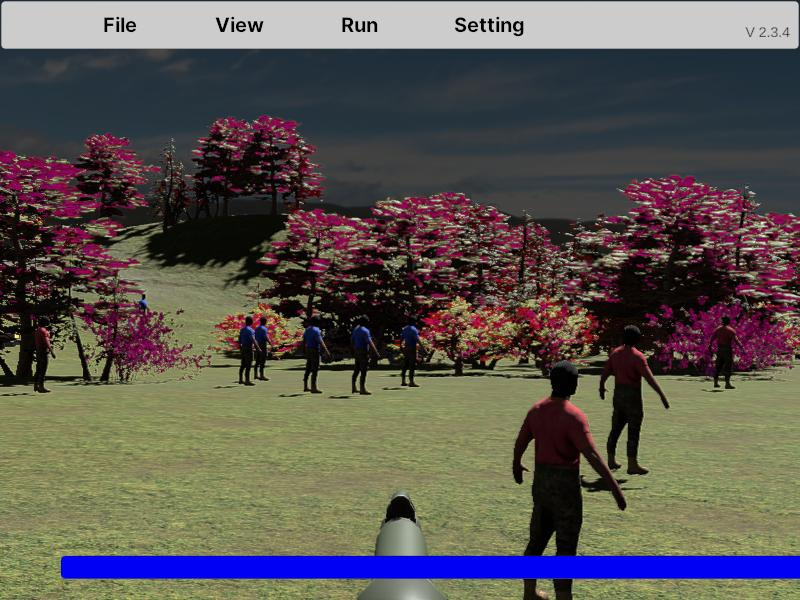Human: (511, 359, 626, 599), (599, 324, 669, 475), (707, 315, 747, 389), (351, 314, 380, 395), (302, 313, 331, 393), (398, 315, 425, 387), (236, 315, 262, 385), (32, 315, 54, 392), (252, 315, 274, 381)
